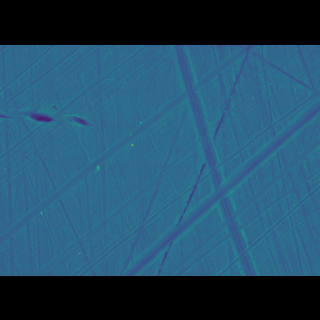Loch: (115, 113, 320, 242), (0, 120, 93, 137)
